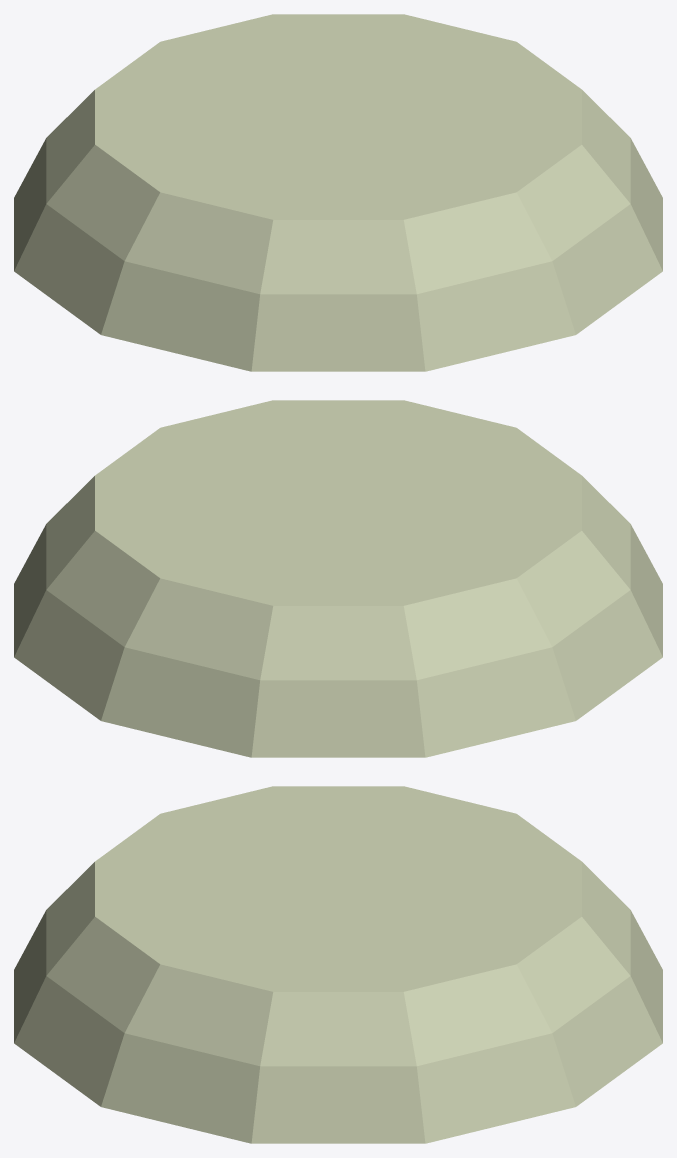
The model's file is hadar_adapter_s1_s0p5_1_collider.obj.
3 views of the same model, one above another, from view 1: azimuth 30°, elevation 25°; view 2: azimuth 150°, elevation 25°; view 3: azimuth 270°, elevation 25° (orthographic).
Visible parts, largest first — view 1: collider; view 2: collider; view 3: collider.
Part boxes in pixels (bbox=[...]): collider: bbox=[14, 14, 662, 371]; collider: bbox=[14, 400, 662, 757]; collider: bbox=[14, 786, 662, 1143].
Bounding box in the file's own units: 1.25 × 0.25 × 1.25.
